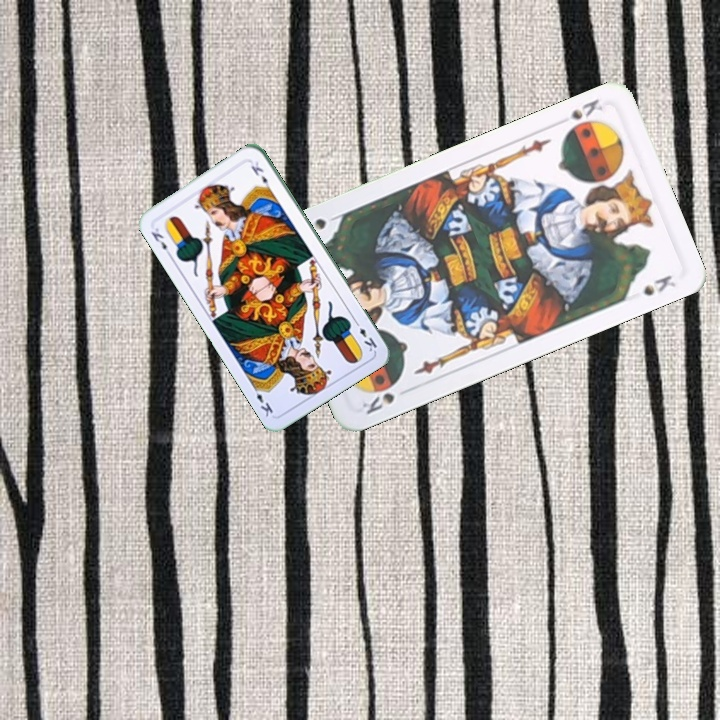EK: (350, 316, 379, 354), (147, 221, 174, 259)
SK: (552, 94, 605, 128), (357, 388, 398, 417)
